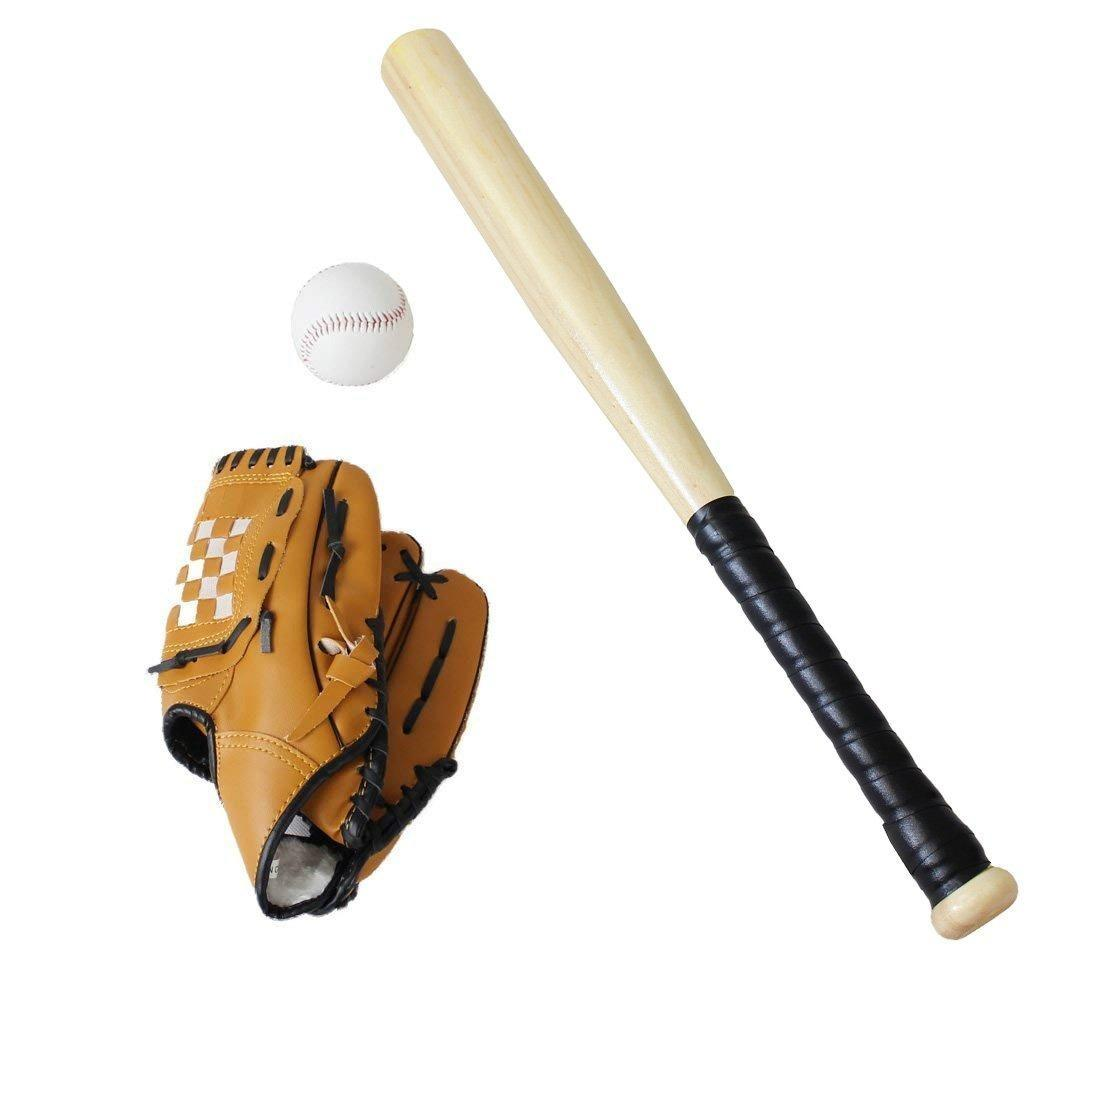Baseball-Bat: (498, 108, 1017, 931)
